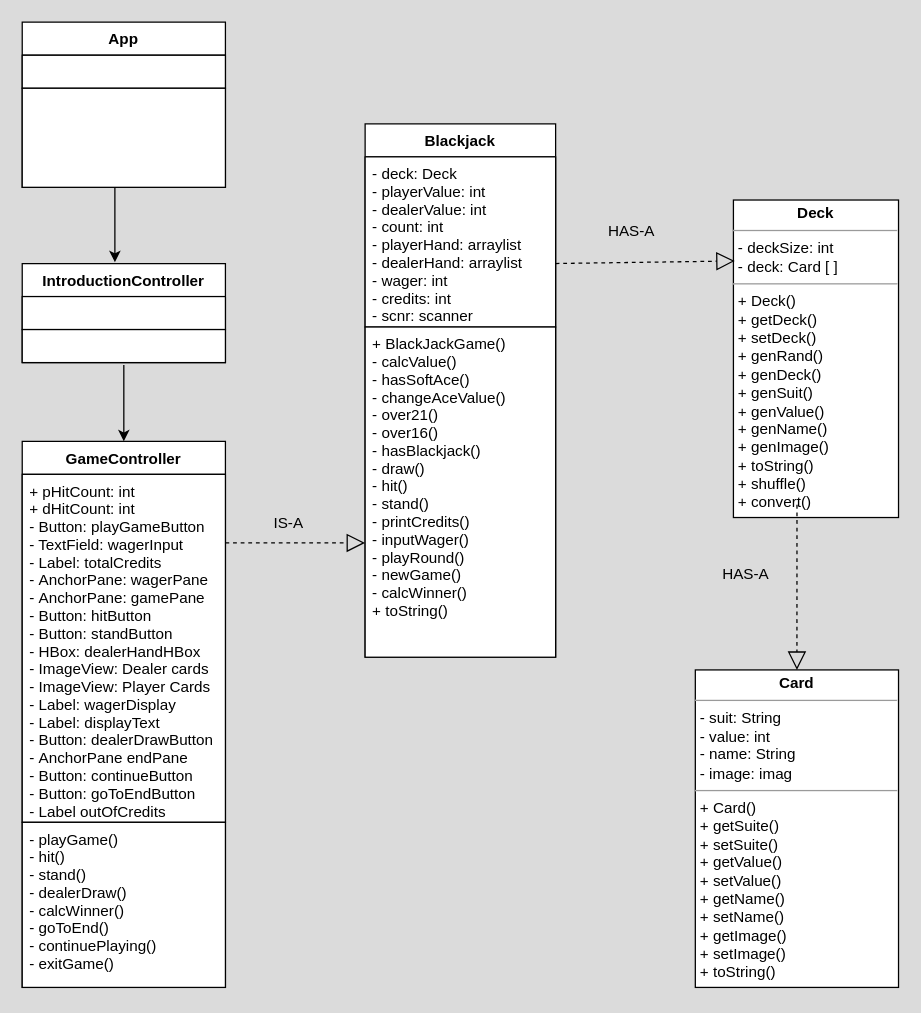
Some shapes in this 921 by 1013 pixel diagram are drawn without their labels. The shapes that lost their labels are listed below. From the top down, each one's centre as x and y in pixels, then its label:
the point at 123,71: -Scene: scene
the point at 123,137: + start() + setRoot() - loadFXML() + main()
the point at 123,312: - Button: continueButton
the point at 123,345: - switchToGame()
